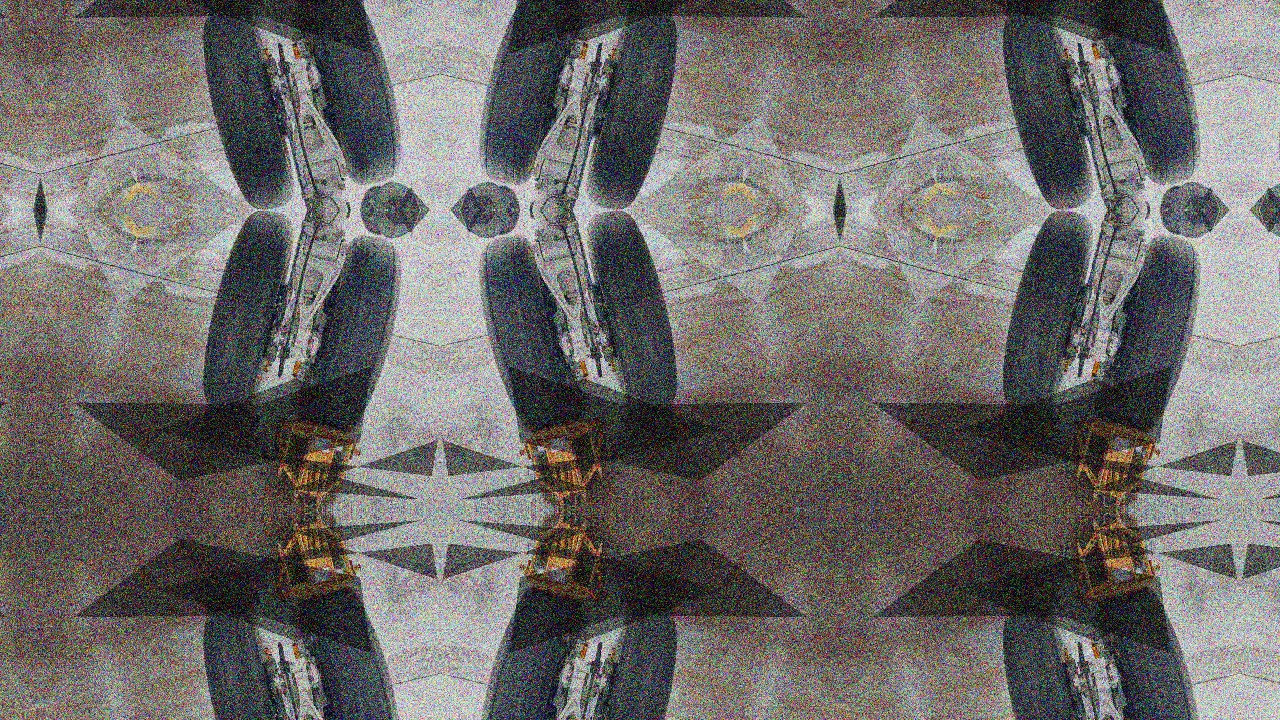chock: (252, 409, 366, 510), (514, 409, 628, 510), (1052, 409, 1166, 510), (252, 510, 366, 611), (514, 510, 628, 611), (1052, 510, 1166, 611), (252, 0, 366, 11), (514, 0, 628, 11), (1052, 0, 1166, 11)
wheel: (186, 210, 305, 422), (575, 210, 694, 422), (986, 210, 1105, 422), (294, 228, 415, 435), (465, 228, 586, 435), (1094, 228, 1215, 435), (186, 0, 305, 210), (575, 0, 694, 210), (986, 0, 1105, 210), (294, 0, 415, 192), (465, 0, 586, 192), (1094, 0, 1215, 192), (294, 585, 415, 720), (465, 585, 586, 720), (1094, 585, 1215, 720), (186, 598, 305, 720), (575, 598, 694, 720), (986, 598, 1105, 720), (1265, 228, 1280, 435), (1265, 0, 1280, 192), (1265, 585, 1280, 720)
